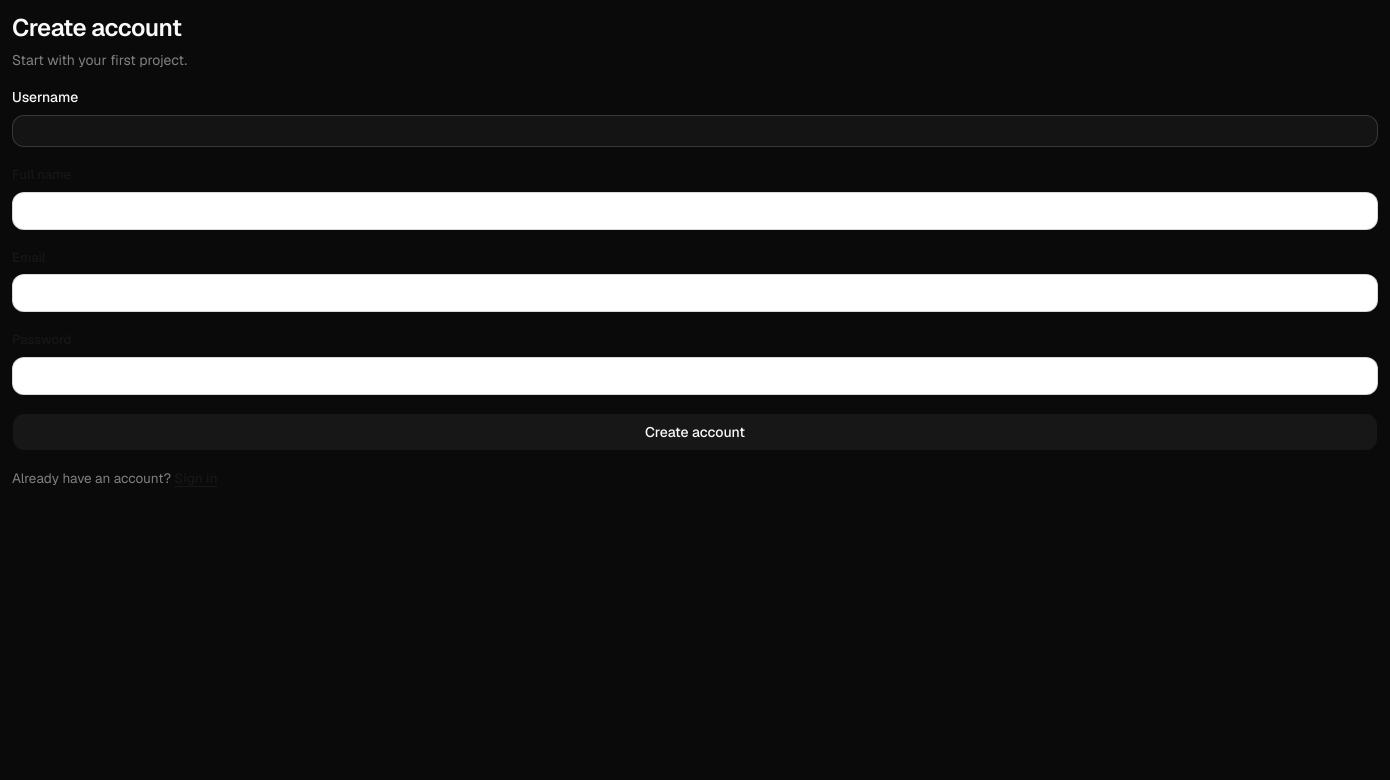
Test: SignUpForm › shows a generic message instead of the server message when the server fails unexpectedly
The image size is (1390, 780).
Type "ada" into the field labelled "Username" at (695, 131), box x1=12 y1=115 x2=1378 y2=147
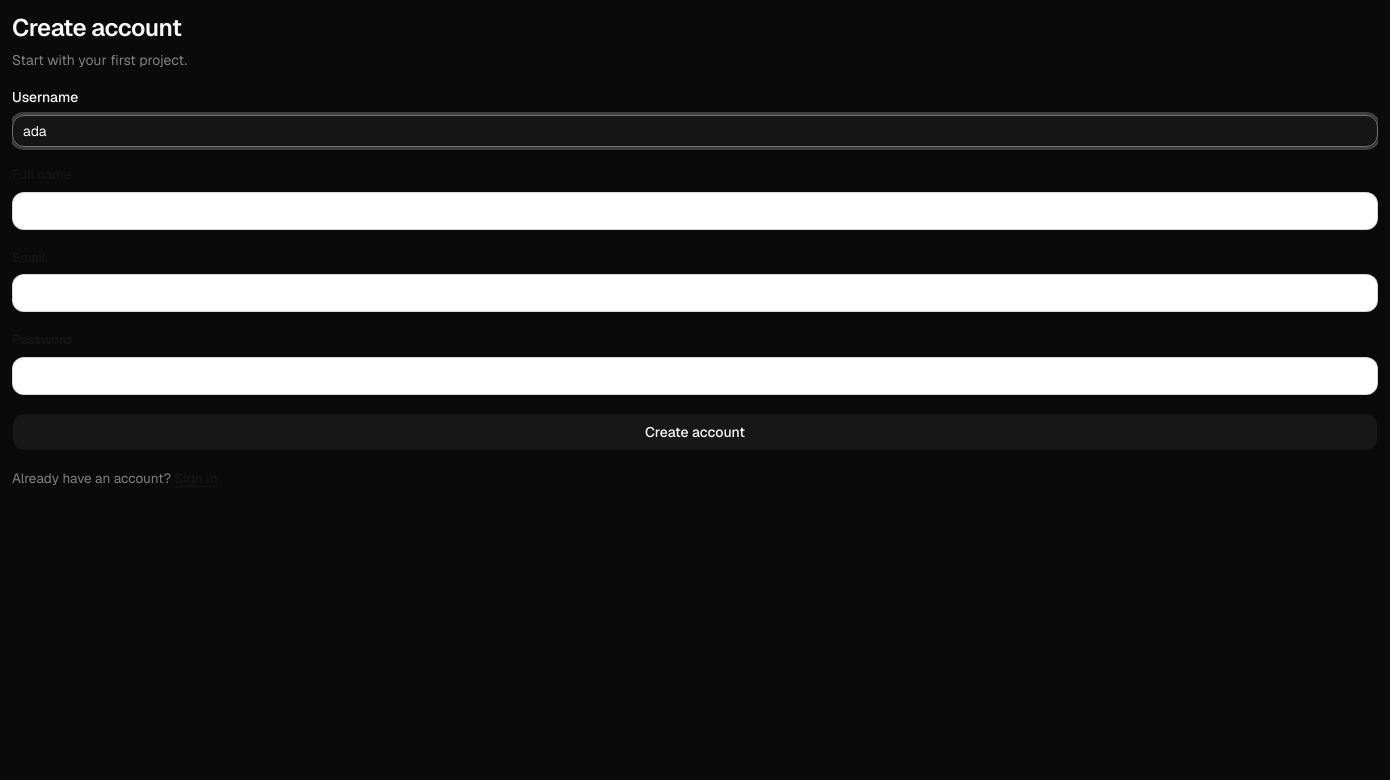
Type "Ada" into the field labelled "Full name" at (695, 211), box x1=12 y1=192 x2=1378 y2=230
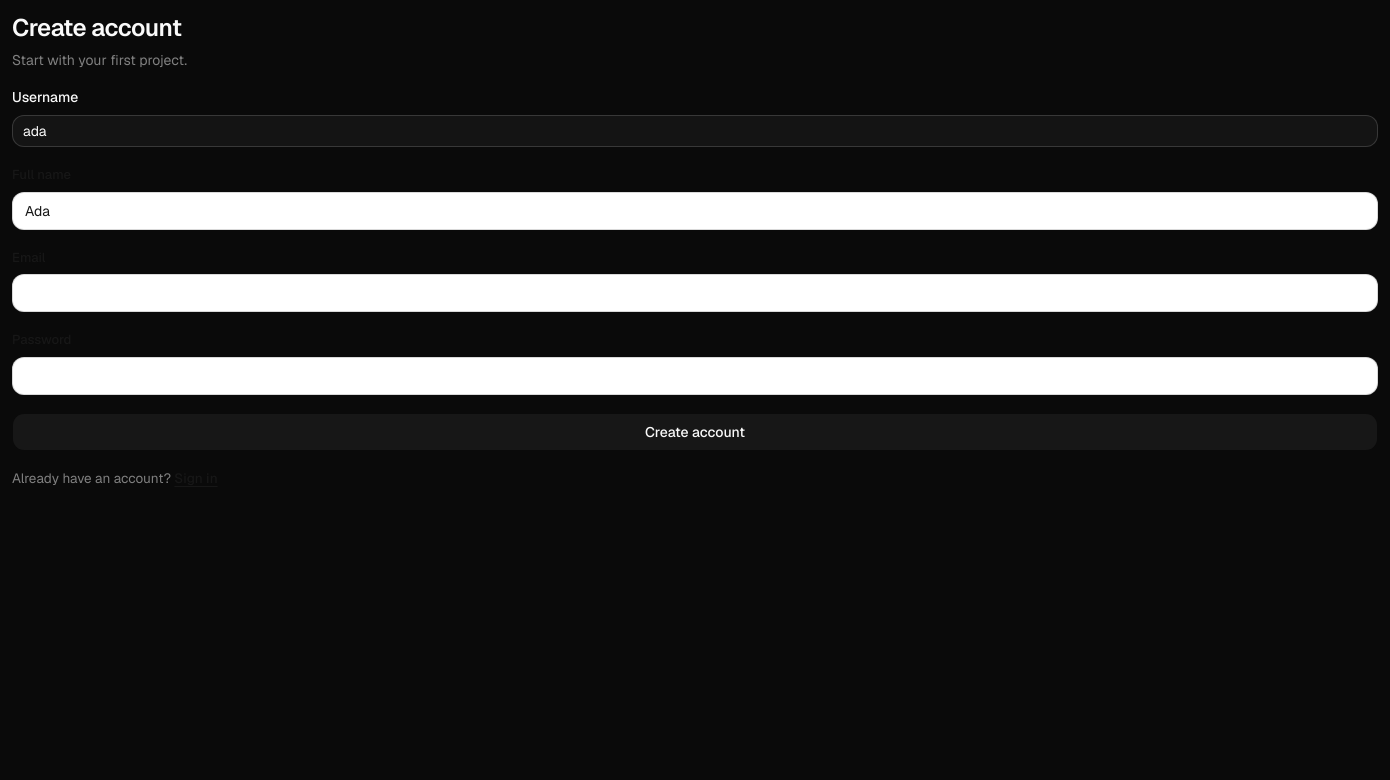
Type "ada@example.com" into the field labelled "Email" at (695, 293), box x1=12 y1=274 x2=1378 y2=312
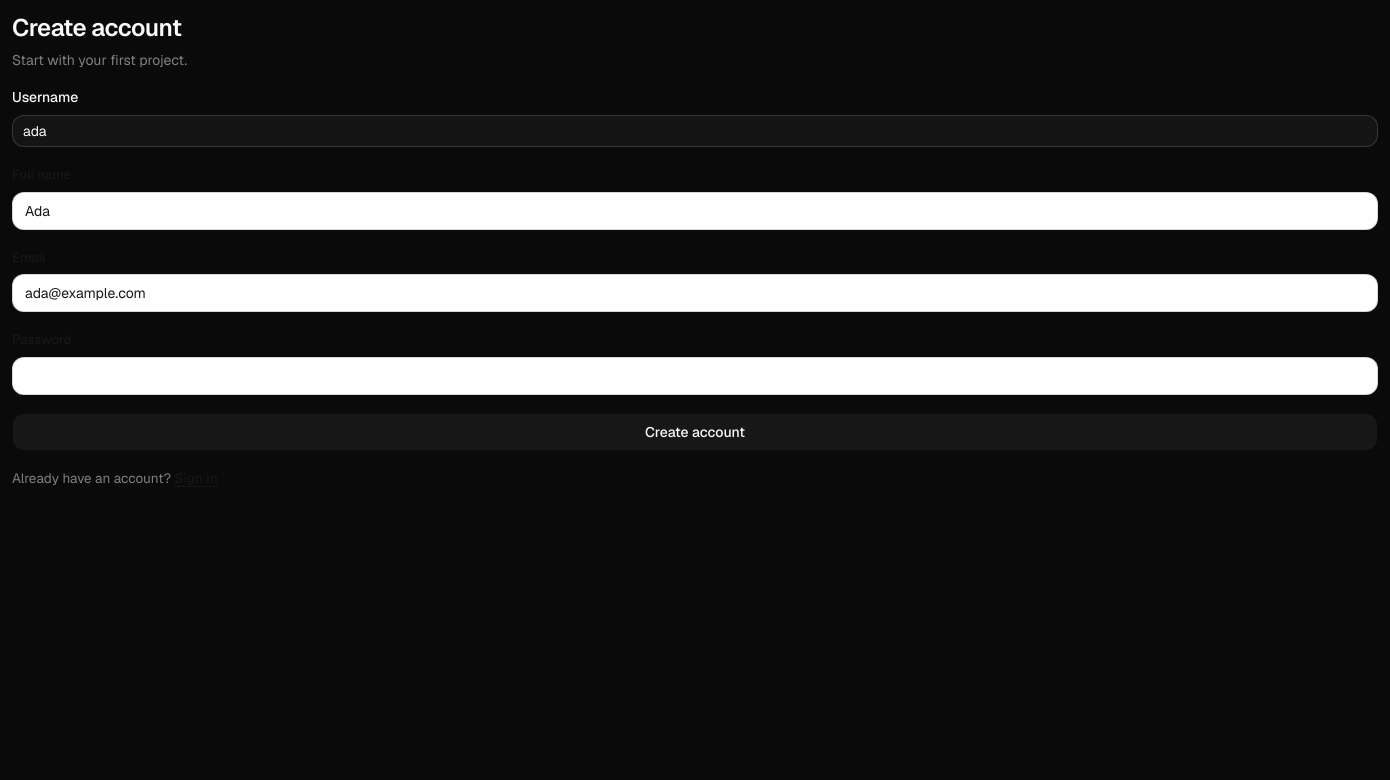
Type "a-long-enough-password" into the password field labelled "Password" at (695, 376), box x1=12 y1=357 x2=1378 y2=395
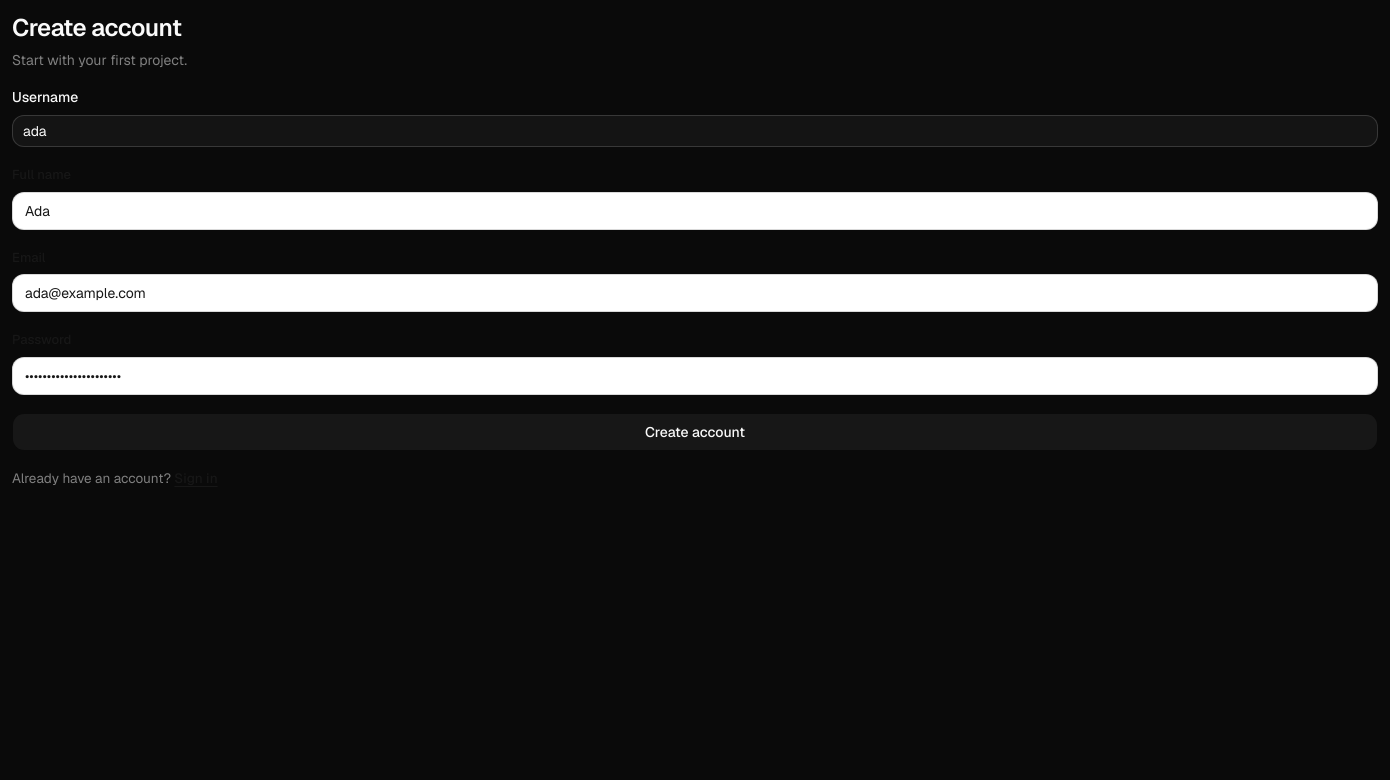
Click the button "Create account" at (695, 432), box x1=12 y1=413 x2=1378 y2=451
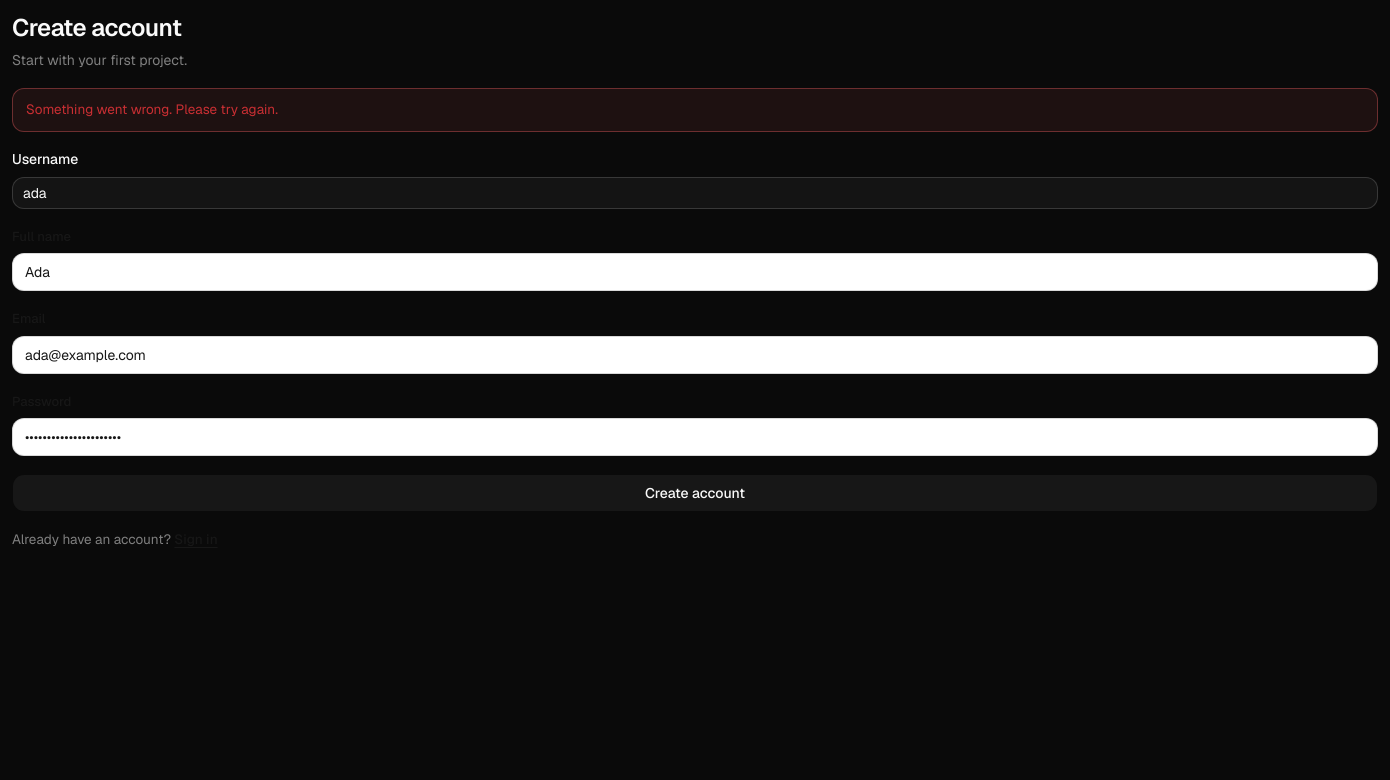
expect the message does not show "10.0.0.5": met, box x1=12 y1=88 x2=1378 y2=132
expect the message reads "Something went wrong. Please try again.": met, box x1=26 y1=100 x2=278 y2=118
